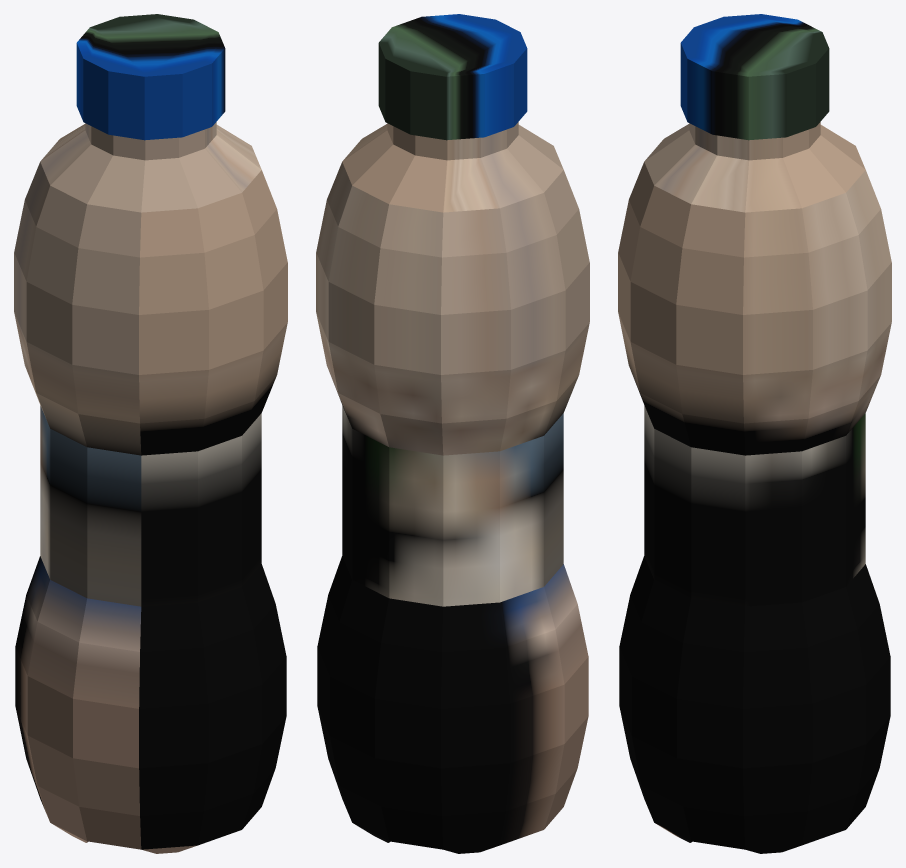
3 renders of one model, left to right at view 1: azimuth 30°, elevation 25°; view 2: azimuth 150°, elevation 25°; view 3: azimuth 270°, elevation 25°, orthographic.
Bounding box in the file's own units: 0.3226 × 1 × 0.3226.
1 material, 1 textured.
